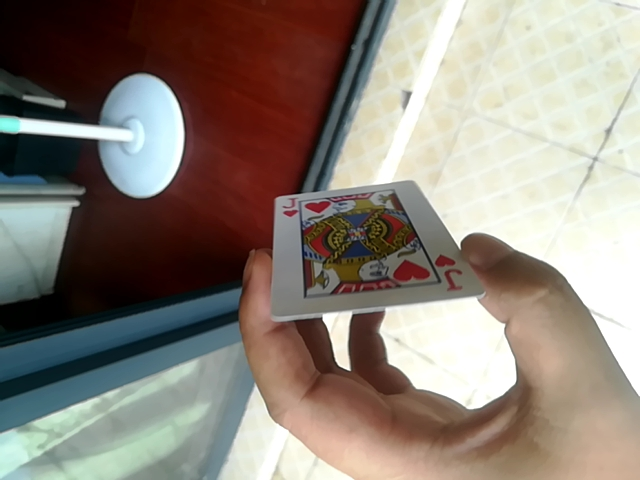hx j: (270, 182, 488, 313)
